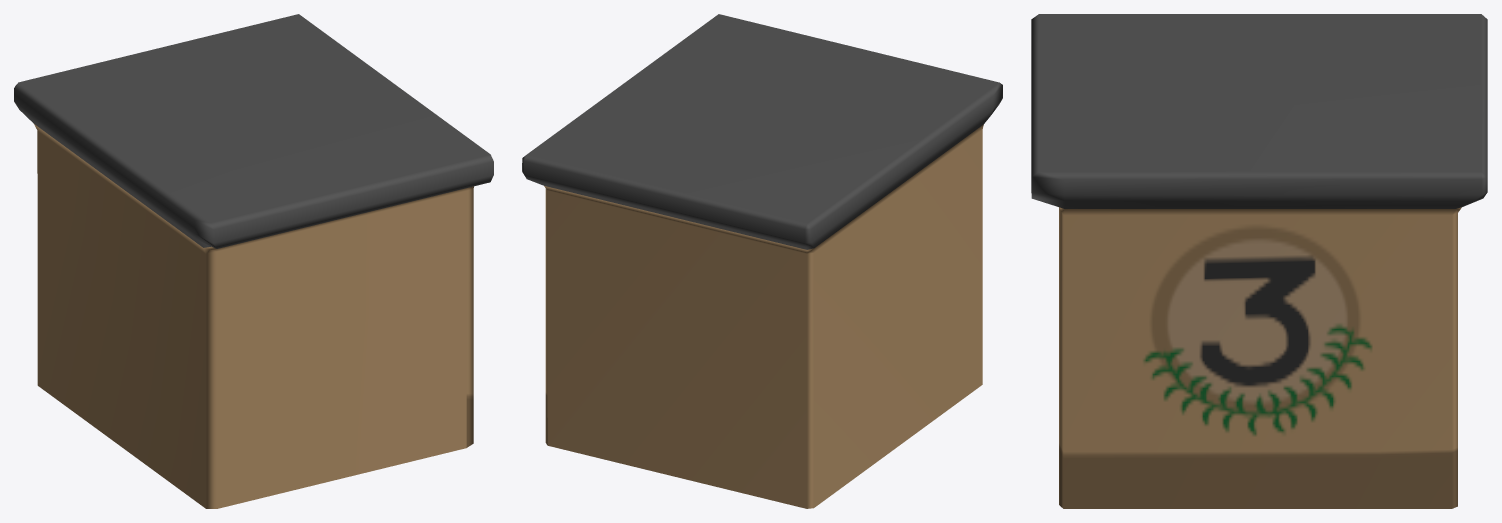
The model's file is pod3.fbx.
3 views of the same model, side by side, from view 1: azimuth 30°, elevation 25°; view 2: azimuth 150°, elevation 25°; view 3: azimuth 270°, elevation 25° (orthographic). The views are drawn at different scales.
Parts seen in each view (by area): view 1: polySurface4; view 2: polySurface4; view 3: polySurface4.
Part boxes in pixels (left/top/right/bottom): polySurface4: left=14, top=14, right=493, bottom=508; polySurface4: left=522, top=14, right=1002, bottom=508; polySurface4: left=1031, top=14, right=1487, bottom=508.
Size of the model in its own units: 1.08 by 1.06 by 1.28.
Materials: 1 (1 with a texture image).
